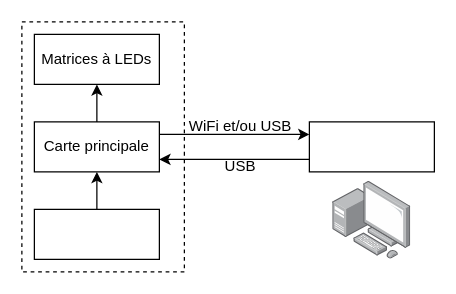
Image size: 456x294. Some labels were removed from this diagram. Each missing label, with the centre of its shape:
Commande du sablier: the point at 96,233
PC: the point at 371,146
